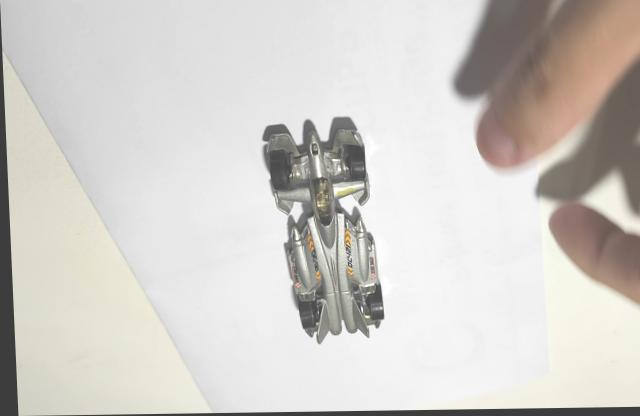05_DC121: (260, 116, 382, 347)
